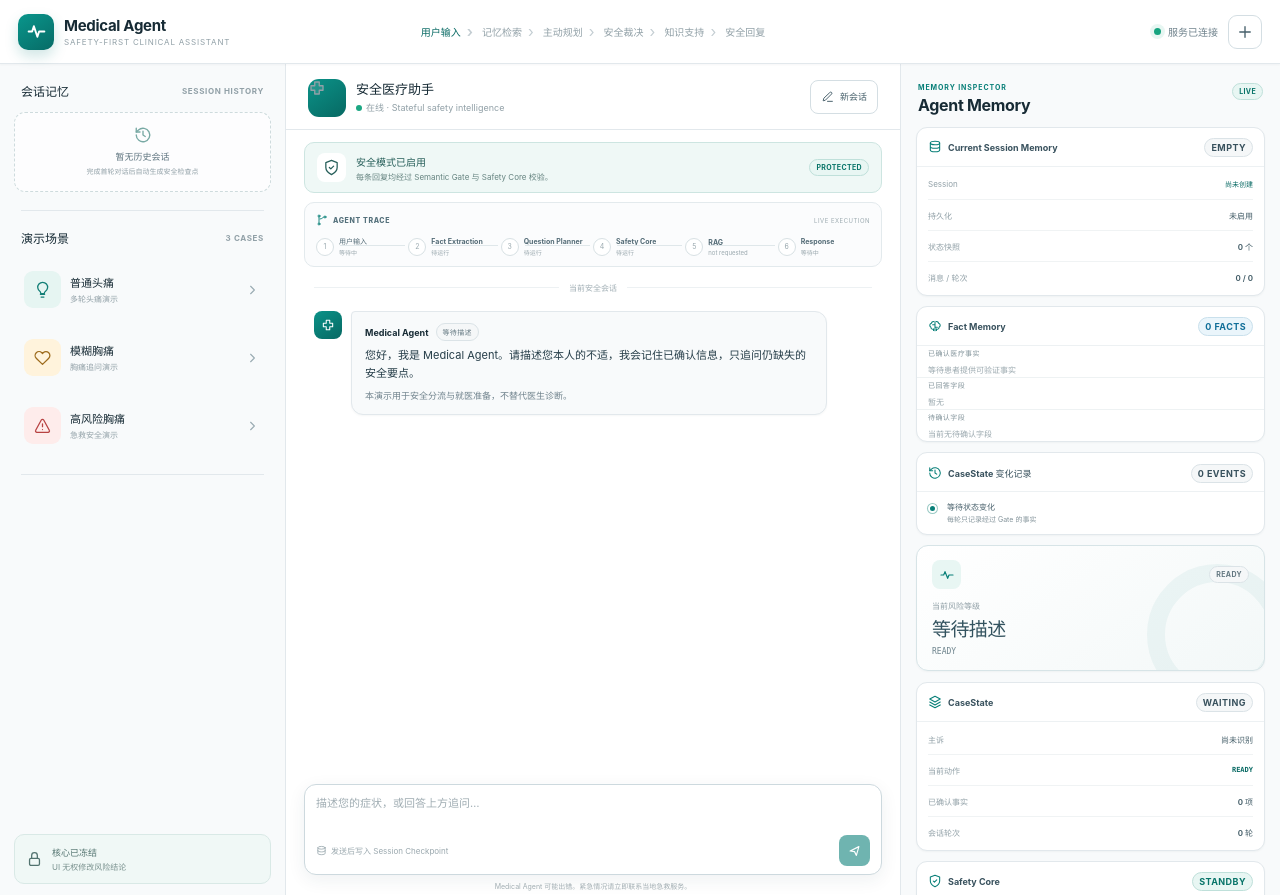
Test: Medical Agent Web Demo › replays a fixed case and displays risk plus reviewed knowledge sources
What coordinates should you click on to do the following:
click the button "普通头痛 多轮头痛演示"
I would click on:
 (142, 290)
Its box is x1=14 y1=259 x2=271 y2=320.
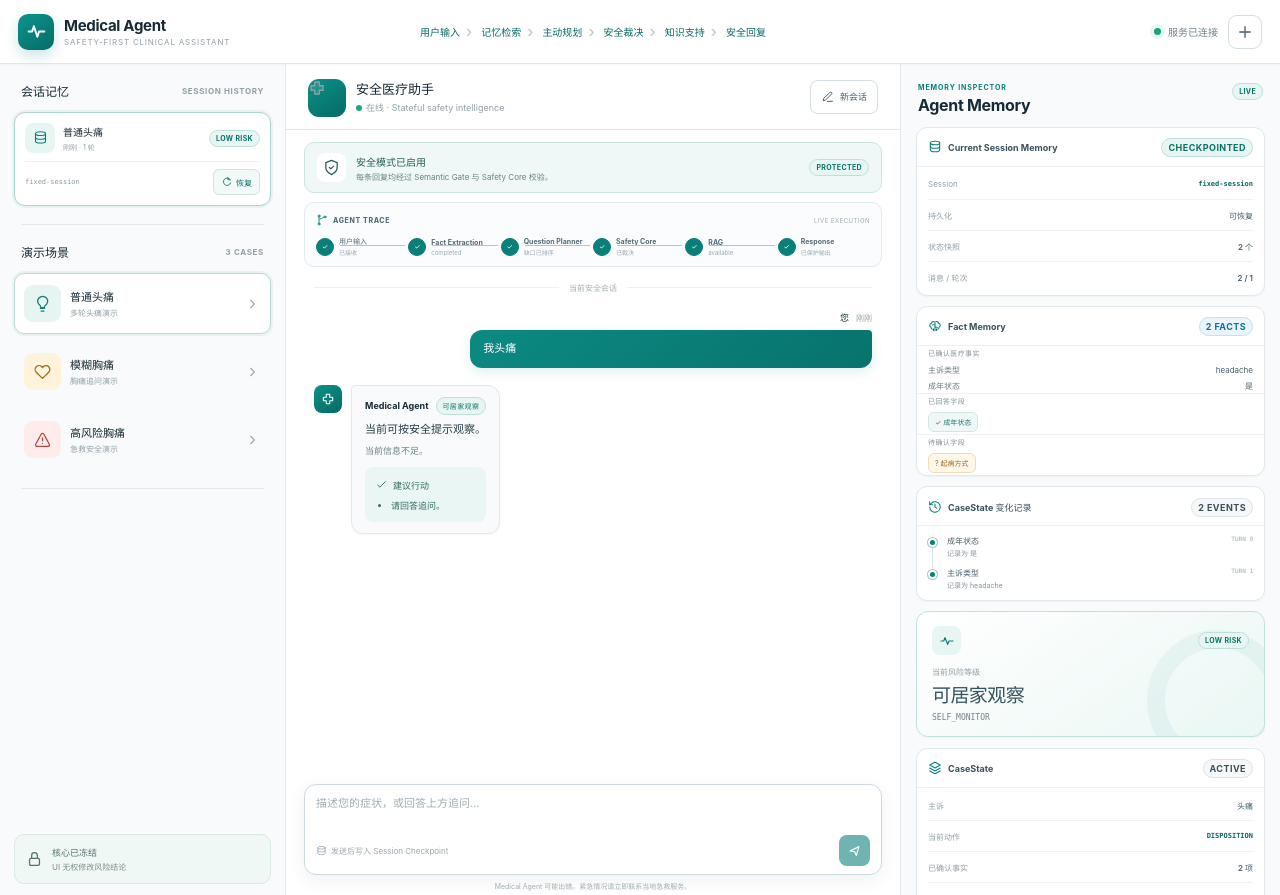
Expected: the text "可居家观察" below "当前风险等级" is shown, x1=932 y1=684 x2=1024 y2=707
Expected: the text "当前可按安全提示观察。" is shown, x1=365 y1=421 x2=486 y2=438
Expected: the text "ACTIVE" is shown, x1=1203 y1=758 x2=1253 y2=778
